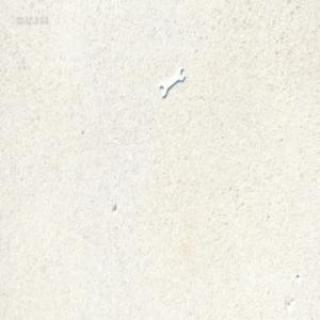Wrenchtrack_idkeyframe: (160, 68, 184, 100)
